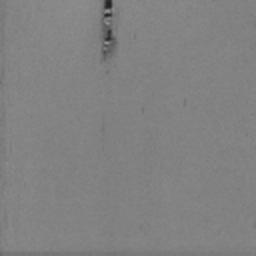Slag inclusion: (102, 0, 117, 60)
